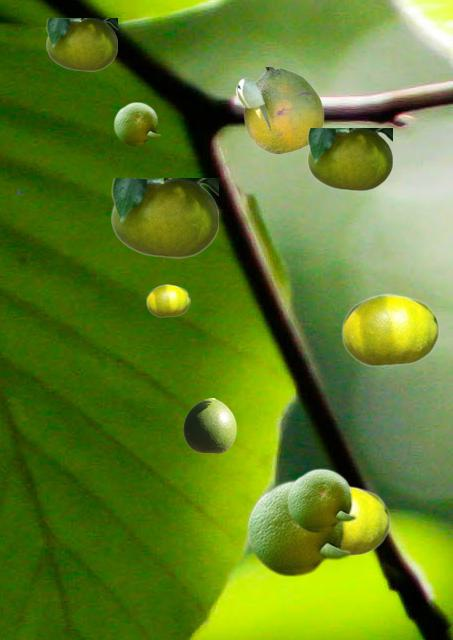dalandan: (245, 479, 351, 576), (111, 178, 217, 257), (235, 67, 323, 153), (341, 293, 438, 366), (307, 128, 391, 190), (286, 467, 356, 532), (46, 18, 116, 70), (344, 485, 389, 556), (183, 398, 235, 452), (113, 101, 160, 145), (146, 284, 189, 316)
